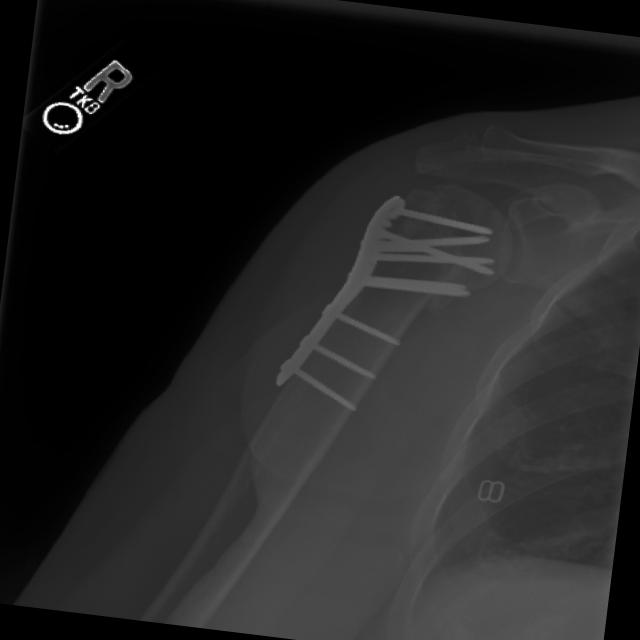humerus fracture: (412, 182, 510, 301)
